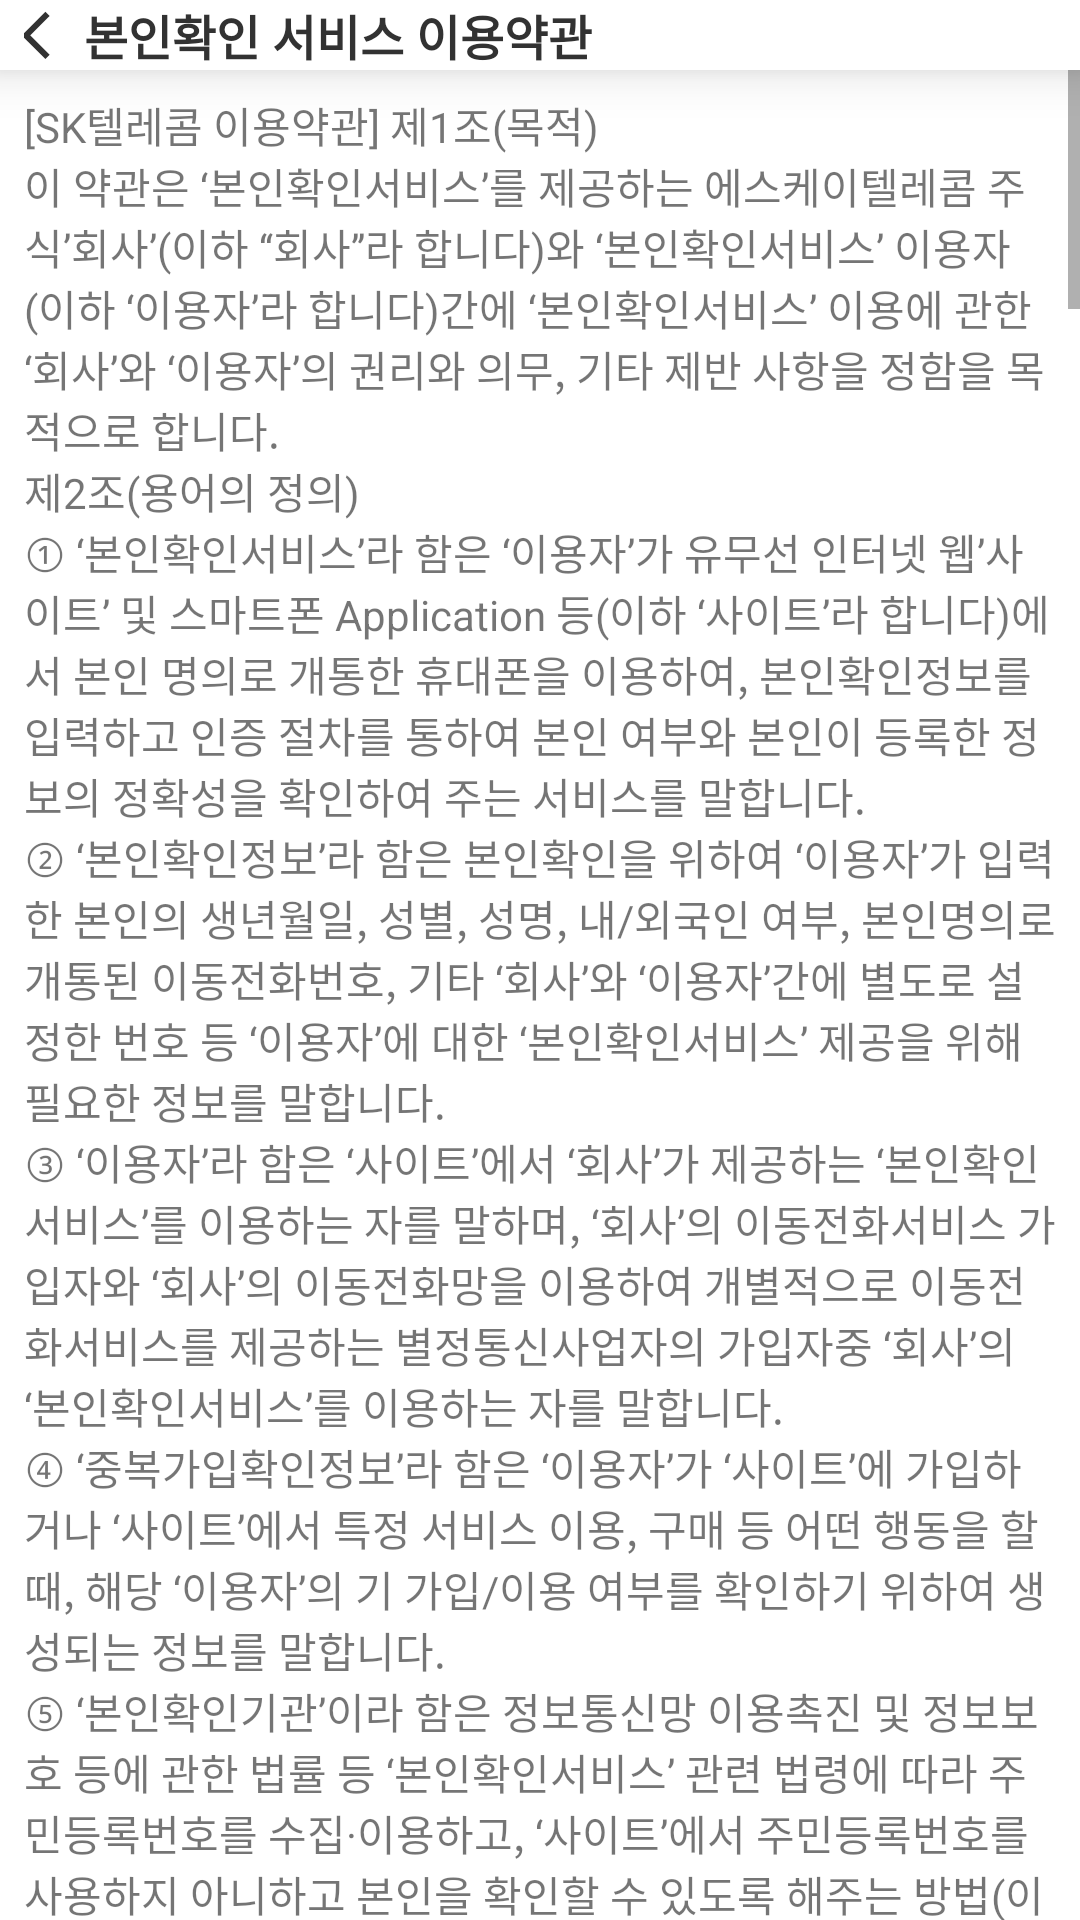

Named icons in this screenshot (1080px x 1920px) and their bounding boxes, (x1, y1, x2, y2):
back sharp: (24, 12, 50, 59)
